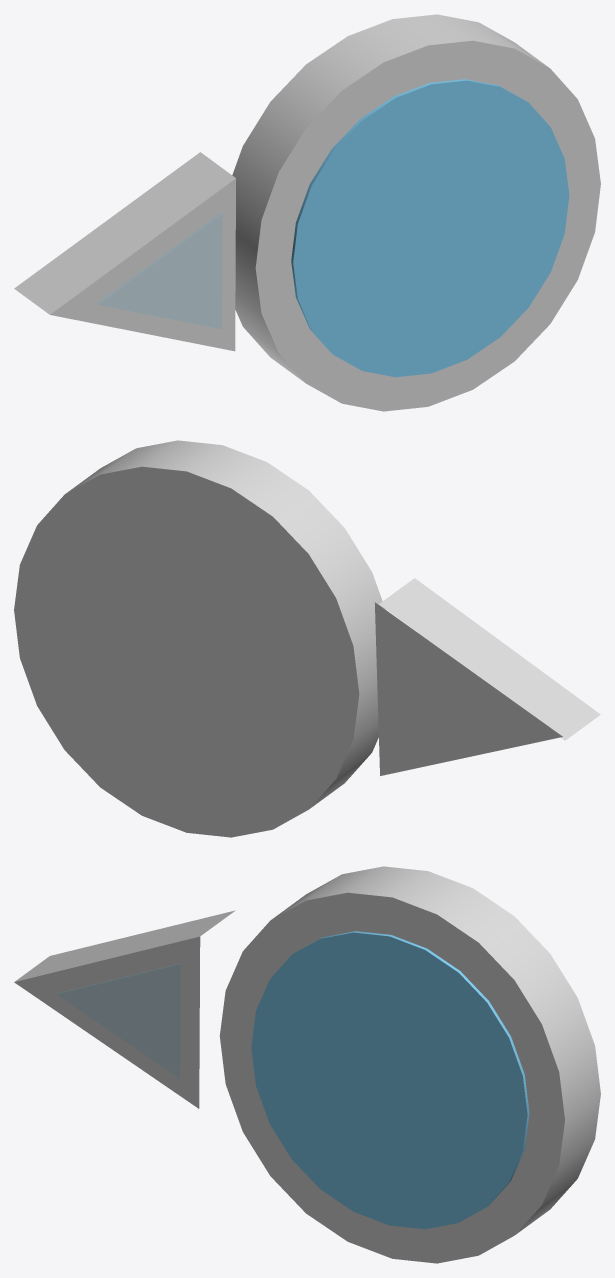
Rendered from Pin_01.gltf.
The picture shows the model from 3 angles, top to bottom: view 1: azimuth 30°, elevation 25°; view 2: azimuth 150°, elevation 25°; view 3: azimuth 330°, elevation 25°; orthographic projection.
Parts seen in each view (by area): view 1: Cylinder1, Cylinder, Box, Box1; view 2: Cylinder, Box; view 3: Cylinder1, Cylinder, Box, Box1.
Boxes of the visible parts, <box> form: Cylinder1: <box>291,79,569,377</box>; Cylinder: <box>232,14,600,411</box>; Box: <box>14,152,235,351</box>; Box1: <box>97,213,222,328</box>; Cylinder: <box>14,440,385,837</box>; Box: <box>375,578,600,775</box>; Cylinder1: <box>251,931,529,1229</box>; Cylinder: <box>219,866,600,1263</box>; Box: <box>14,910,235,1108</box>; Box1: <box>57,963,180,1078</box>.
Size of the model in its own units: 1.6 by 1 by 0.1959.
